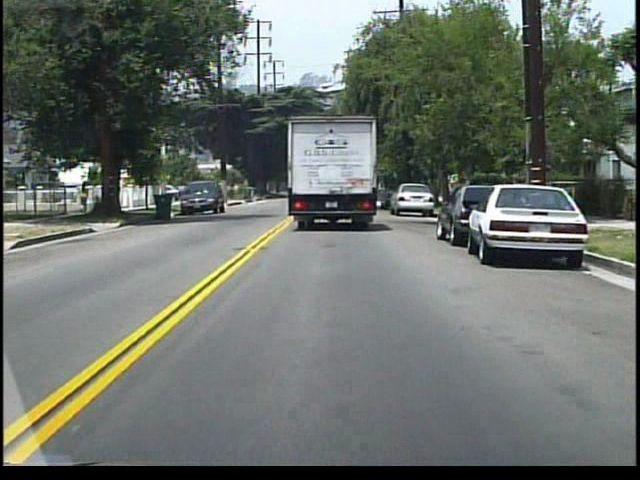person: (80, 180, 93, 215)
